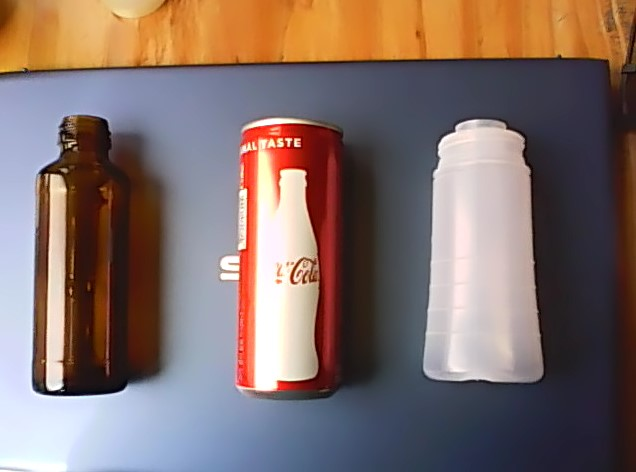Can: (230, 114, 350, 404)
Glass: (29, 108, 135, 398)
Plastic: (417, 110, 550, 388)
